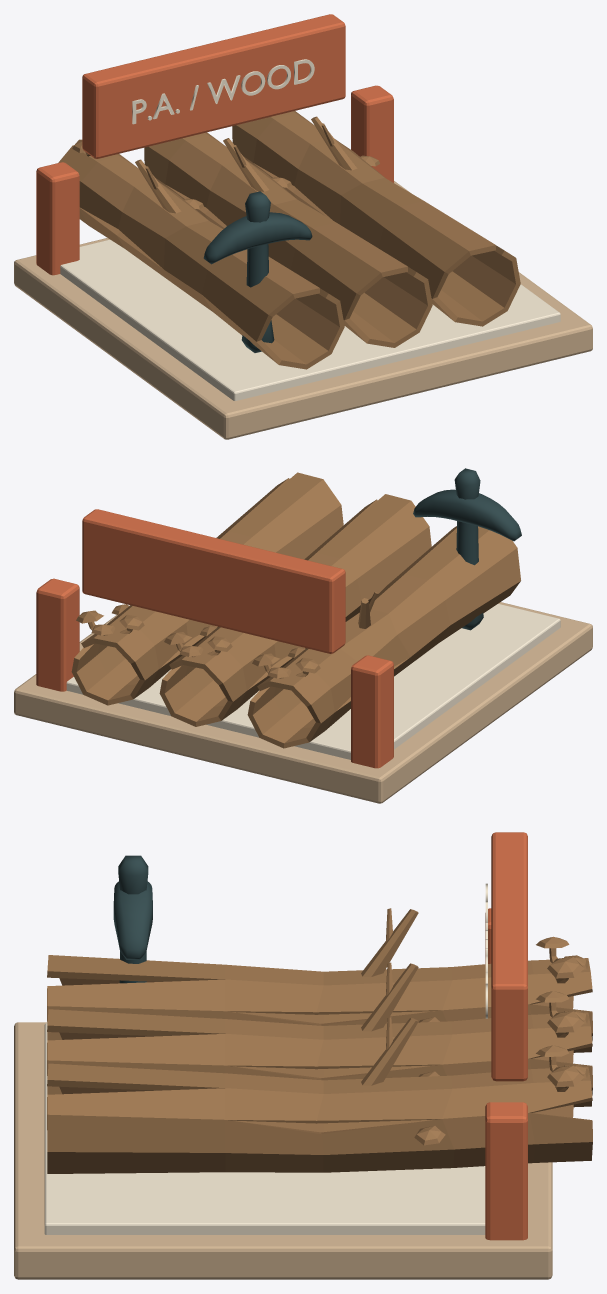
File: PA_StarterWorksite_Wood.fbx
3 views of the same model, one above another, from view 1: azimuth 30°, elevation 25°; view 2: azimuth 150°, elevation 25°; view 3: azimuth 270°, elevation 25° (orthographic). The views are drawn at different scales.
Parts seen in each view (by area): view 1: PA_StarterWorksite_Wood; view 2: PA_StarterWorksite_Wood; view 3: PA_StarterWorksite_Wood.
Part boxes in pixels (bbox=[...]): PA_StarterWorksite_Wood: bbox=[14, 14, 592, 439]; PA_StarterWorksite_Wood: bbox=[14, 468, 592, 803]; PA_StarterWorksite_Wood: bbox=[14, 832, 592, 1279].
Size of the model in its own units: 1.76 by 0.935 by 1.89.
